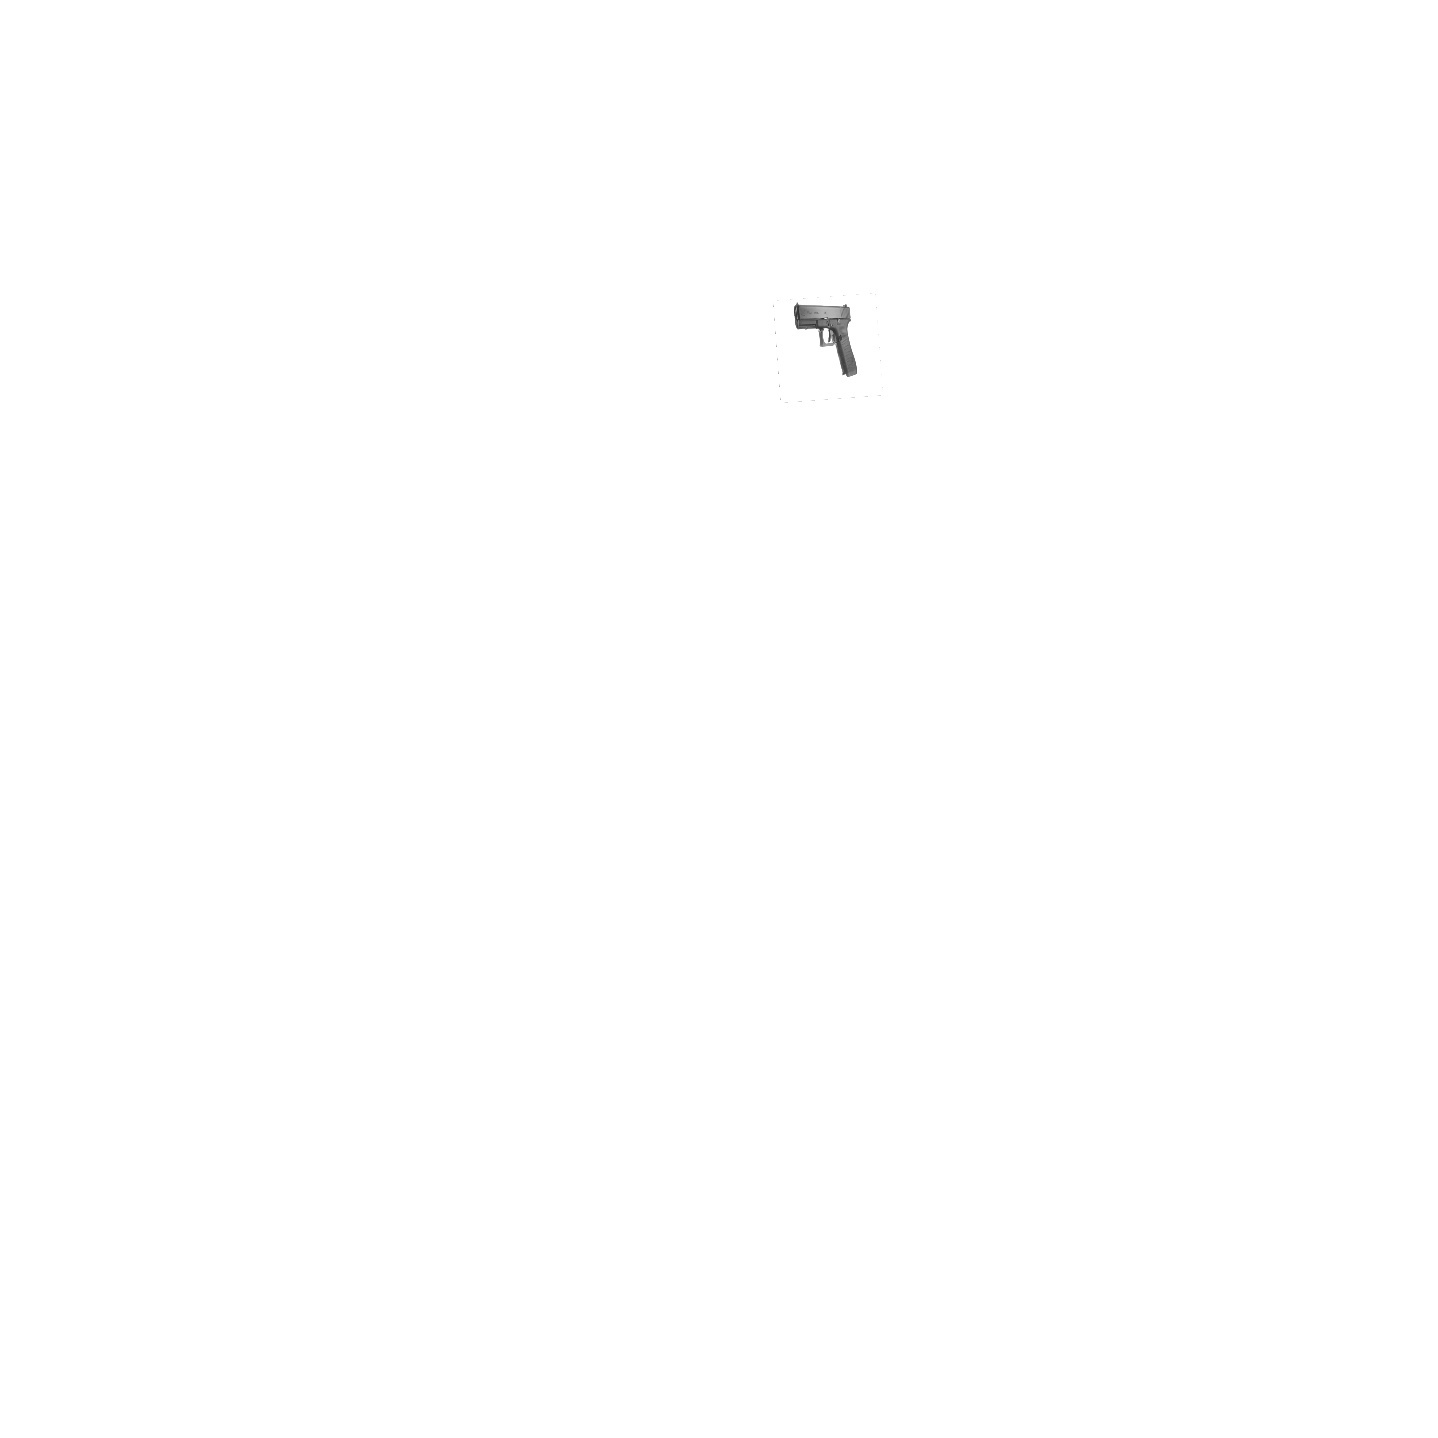gun: (794, 302, 857, 377)
